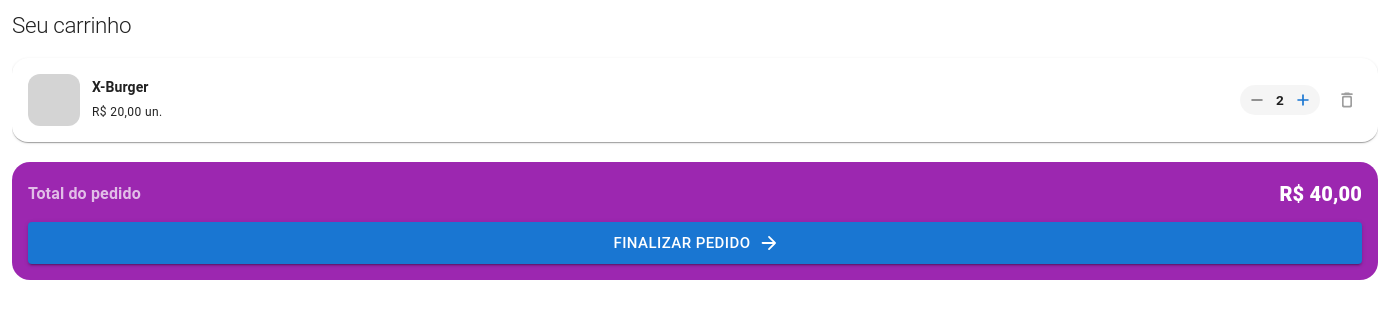
it: CartPage › remover o item volta pro estado vazio
Click the button named "Remover X-Burger do carrinho". click: point(1347, 100)
box: x1=1332 y1=85 x2=1362 y2=115
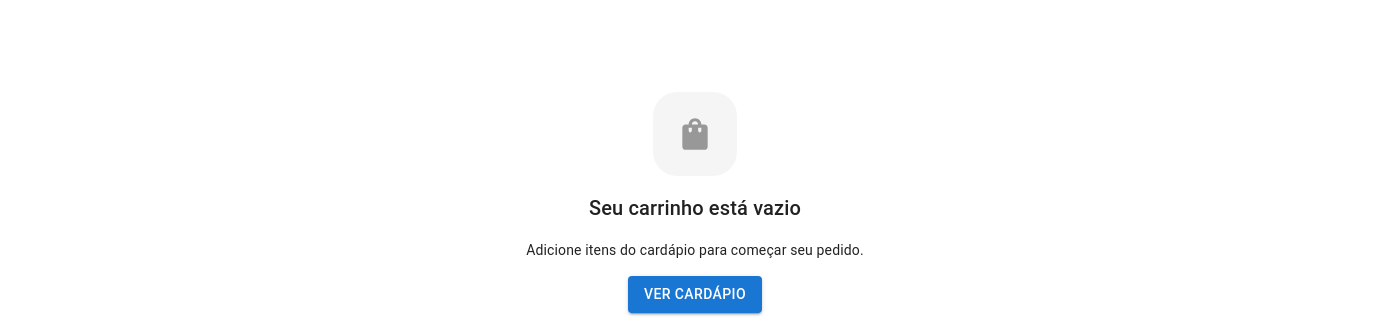
Expected: the heading "Seu carrinho está vazio" is shown, x1=589 y1=192 x2=801 y2=224
